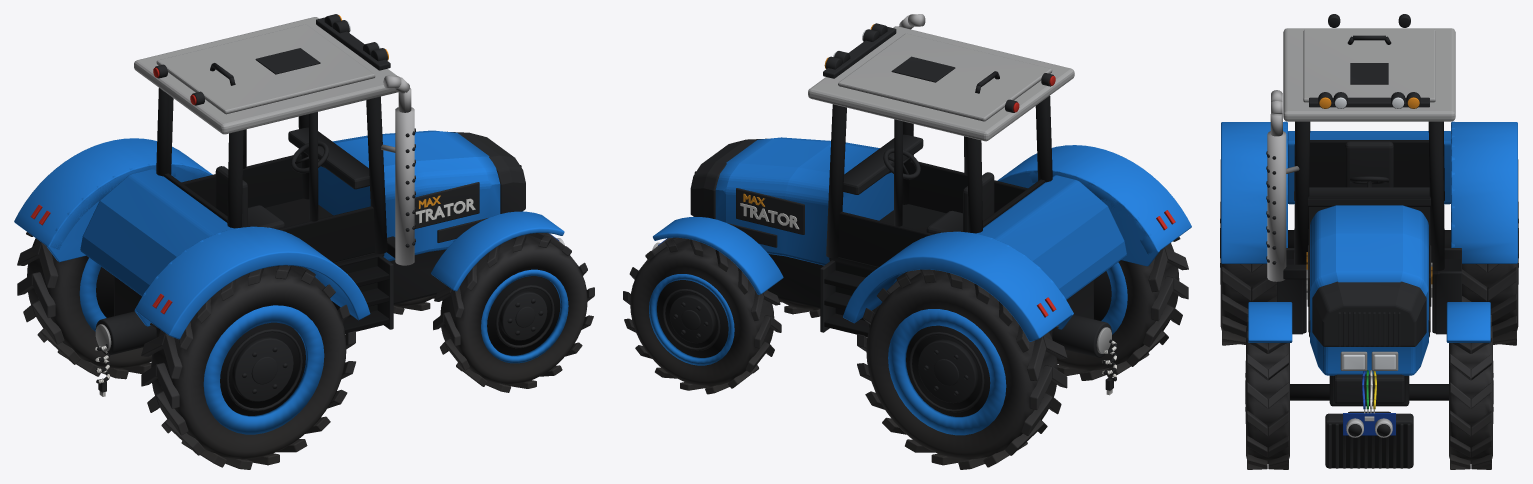
Rendered from max-tractor.glb.
3 renders of one model, left to right at view 1: azimuth 30°, elevation 25°; view 2: azimuth 150°, elevation 25°; view 3: azimuth 270°, elevation 25°, orthographic. The views are drawn at different scales.
Parts seen in each view (by area): view 1: rig-body--max-acabamento-unificado, rig-wheel-1-1--max-roda-unificada, rig-wheel-0-1--max-roda-unificada, rig-wheel-1--1--max-roda-unificada, rig-hitch--max-acabamento-unificado; view 2: rig-body--max-acabamento-unificado, rig-wheel-1--1--max-roda-unificada, rig-wheel-0--1--max-roda-unificada, rig-wheel-1-1--max-roda-unificada, rig-hitch--max-acabamento-unificado; view 3: rig-body--max-acabamento-unificado, rig-wheel-0-1--max-roda-unificada, rig-wheel-0--1--max-roda-unificada, rig-wheel-1--1--max-roda-unificada, rig-wheel-1-1--max-roda-unificada.
Part boxes in pixels (bbox=[...]): rig-body--max-acabamento-unificado: bbox=[14, 14, 564, 339]; rig-wheel-1-1--max-roda-unificada: bbox=[141, 265, 355, 469]; rig-wheel-0-1--max-roda-unificada: bbox=[433, 233, 594, 392]; rig-wheel-1--1--max-roda-unificada: bbox=[17, 232, 151, 379]; rig-hitch--max-acabamento-unificado: bbox=[95, 311, 156, 396]; rig-body--max-acabamento-unificado: bbox=[652, 14, 1191, 341]; rig-wheel-1--1--max-roda-unificada: bbox=[857, 269, 1067, 469]; rig-wheel-0--1--max-roda-unificada: bbox=[623, 237, 781, 394]; rig-wheel-1-1--max-roda-unificada: bbox=[1056, 237, 1188, 380]; rig-hitch--max-acabamento-unificado: bbox=[1052, 314, 1116, 395]; rig-body--max-acabamento-unificado: bbox=[1221, 14, 1517, 468]; rig-wheel-0-1--max-roda-unificada: bbox=[1245, 315, 1289, 469]; rig-wheel-0--1--max-roda-unificada: bbox=[1449, 315, 1493, 469]; rig-wheel-1--1--max-roda-unificada: bbox=[1462, 159, 1518, 345]; rig-wheel-1-1--max-roda-unificada: bbox=[1220, 159, 1276, 345].
Bounding box in the file's own units: 4.5 × 3.12 × 2.64.
